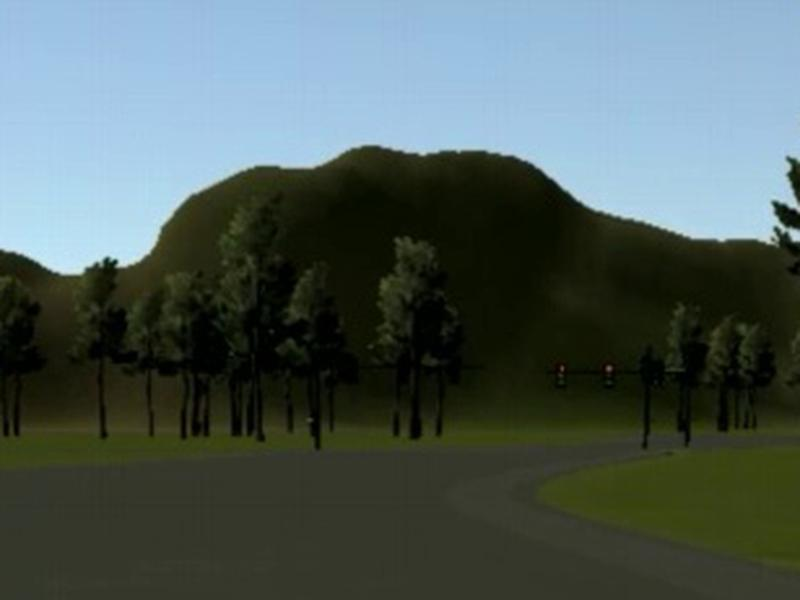Red: (557, 363, 570, 390), (603, 362, 615, 390)
